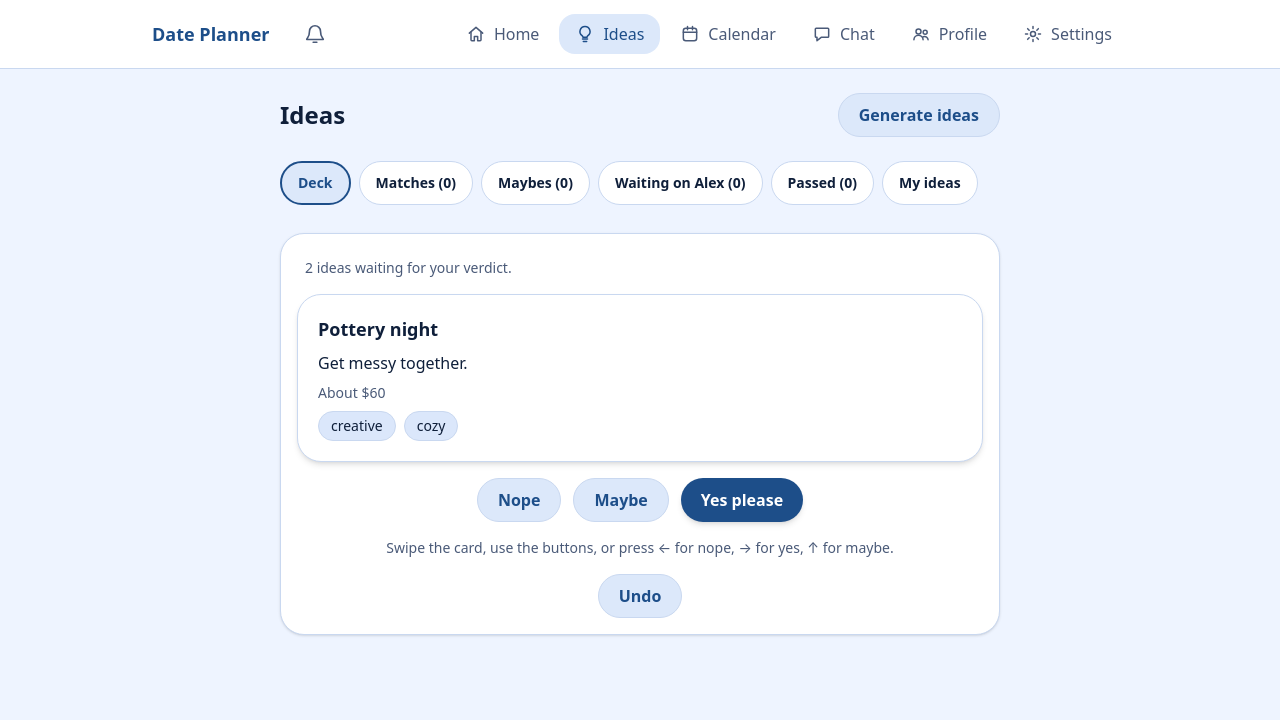
it: IdeasPage deck › casts a vote with the buttons and moves to the next card
Expected: the heading "Pottery night" is shown, x1=318 y1=317 x2=438 y2=341
Expected: the text "Get messy together." is shown, x1=318 y1=352 x2=468 y2=374
Click the button "Yes please" at (742, 500), box x1=681 y1=478 x2=803 y2=522
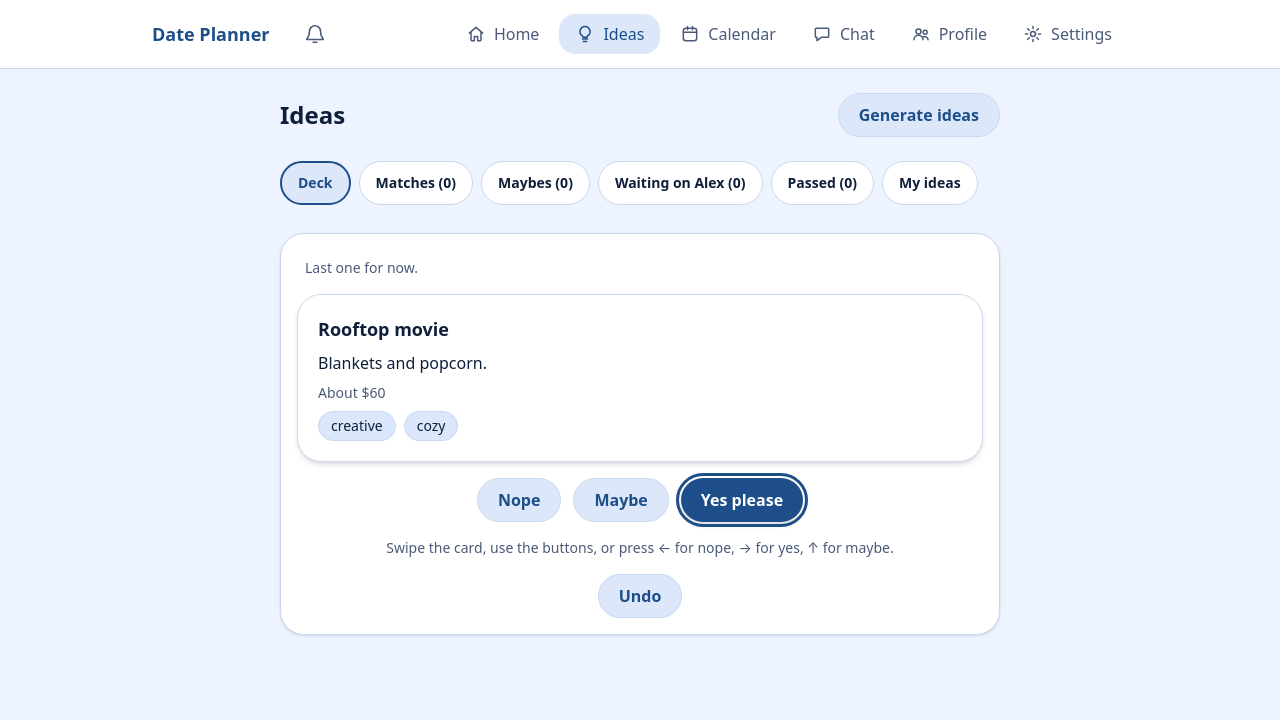
Result: the heading "Rooftop movie" is shown at x1=318 y1=317 x2=449 y2=341
